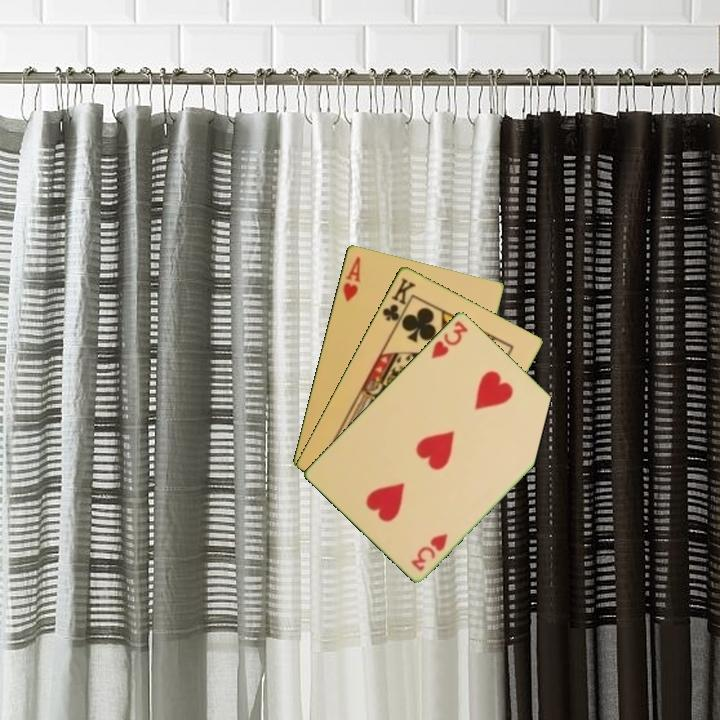3h: (427, 317, 471, 361), (407, 529, 450, 574)
Ah: (339, 253, 364, 304)
Kc: (378, 274, 418, 330)
